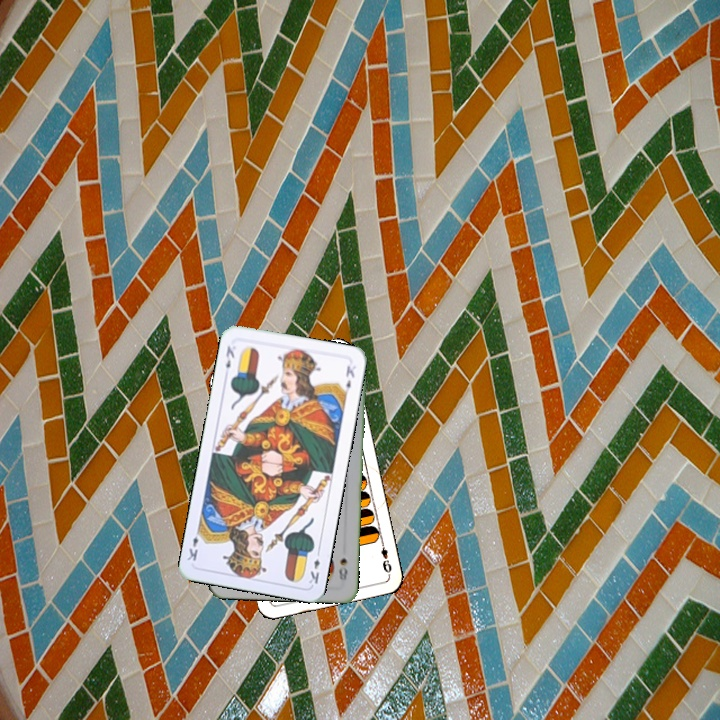E9: (377, 537, 394, 575)
EK: (305, 546, 323, 586), (222, 342, 237, 371)
S8: (335, 554, 350, 583)
